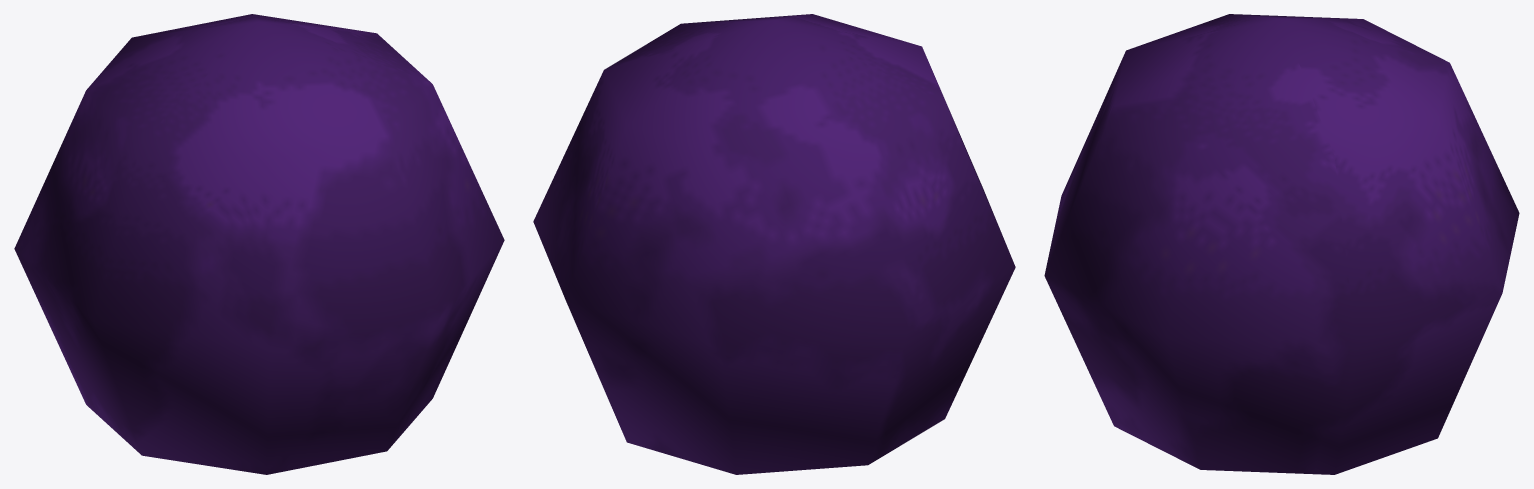
File: grapesingle.glb
The picture shows the model from 3 angles, left to right: view 1: azimuth 30°, elevation 25°; view 2: azimuth 150°, elevation 25°; view 3: azimuth 270°, elevation 25°; orthographic projection.
Visible parts, largest first — view 1: grapesingle; view 2: grapesingle; view 3: grapesingle.
Part boxes in pixels (left/top/right/bottom): grapesingle: left=14, top=14, right=504, bottom=474; grapesingle: left=533, top=14, right=1015, bottom=474; grapesingle: left=1044, top=14, right=1519, bottom=474.
Bounding box in the file's own units: 0.0806 × 0.0845 × 0.0806.
Materials: 1 (1 with a texture image).
